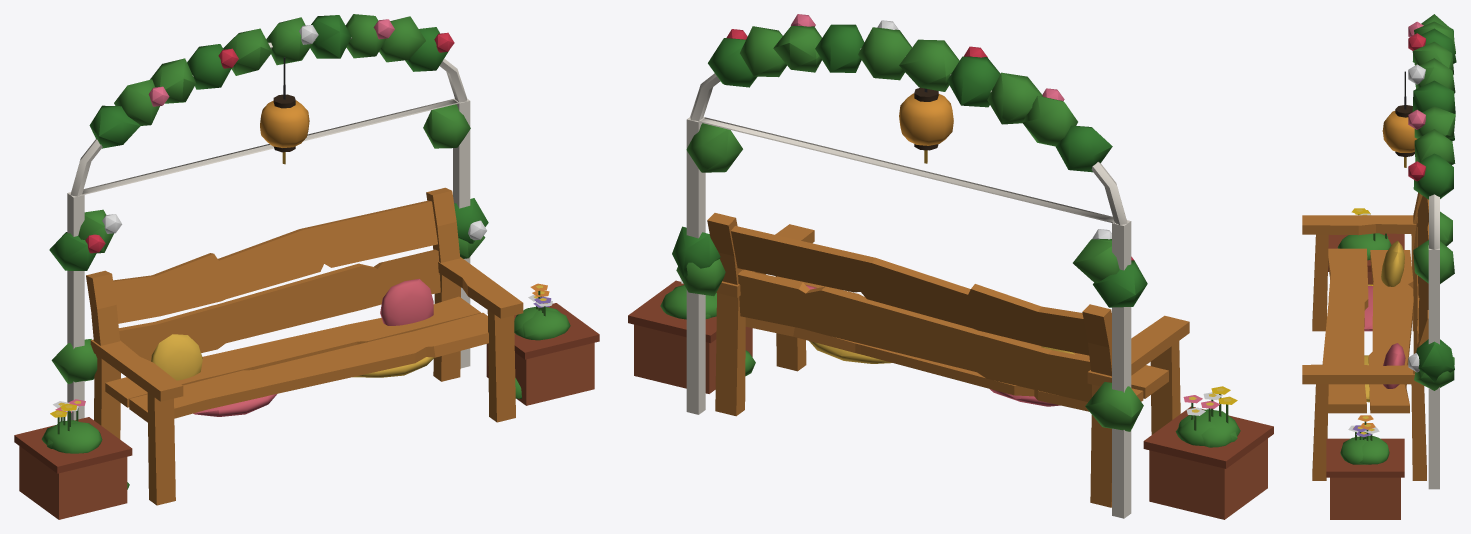
Rendered from sunset_bench-3.glb.
The picture shows the model from 3 angles, left to right: view 1: azimuth 30°, elevation 25°; view 2: azimuth 150°, elevation 25°; view 3: azimuth 270°, elevation 25°; orthographic projection. The views are drawn at different scales.
Visible parts, largest first — view 1: decor-sunset_bench-3; view 2: decor-sunset_bench-3; view 3: decor-sunset_bench-3.
Boxes of the visible parts, x1,y1,x2,y2 form: decor-sunset_bench-3: [14, 14, 599, 519]; decor-sunset_bench-3: [628, 14, 1273, 519]; decor-sunset_bench-3: [1302, 14, 1456, 519].
Size of the model in its own units: 4.92 by 3.36 by 1.34.
